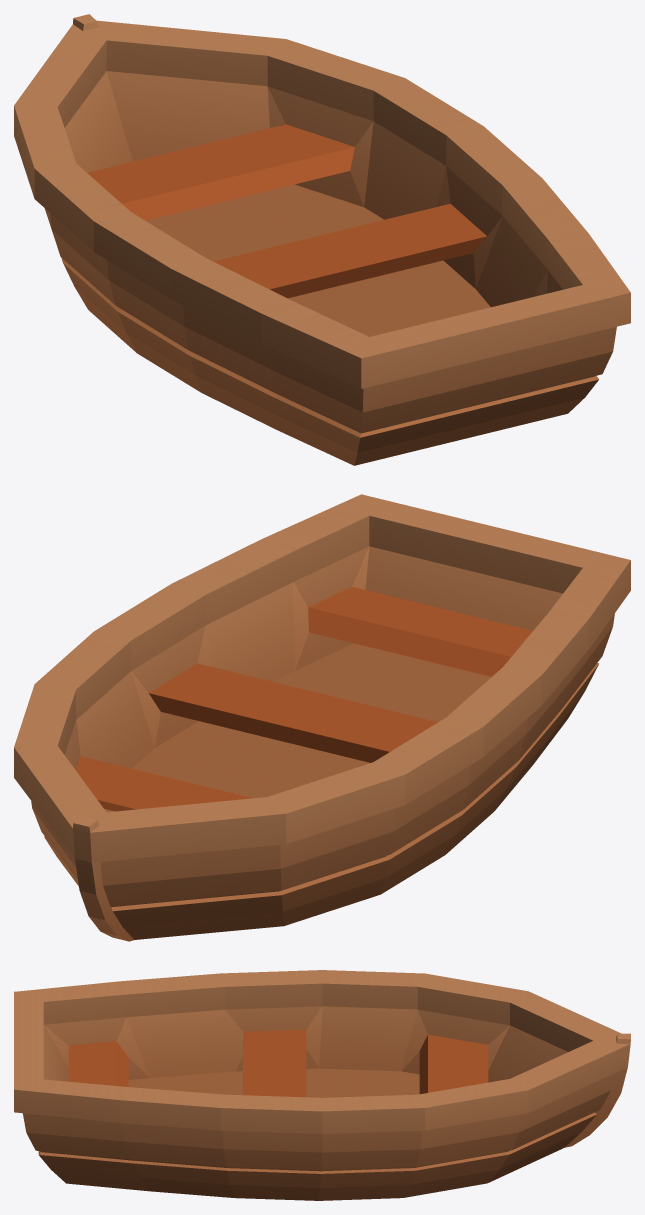
The model's file is boat.obj.
The picture shows the model from 3 angles, top to bottom: view 1: azimuth 30°, elevation 25°; view 2: azimuth 150°, elevation 25°; view 3: azimuth 270°, elevation 25°; orthographic projection. The views are drawn at different scales.
Parts seen in each view (by area): view 1: Cube.017; view 2: Cube.017; view 3: Cube.017.
Part boxes in pixels (x1,y1,x2,y2): Cube.017: [14, 14, 630, 465]; Cube.017: [14, 494, 630, 941]; Cube.017: [14, 970, 630, 1200].
Size of the model in its own units: 6.14 by 2.2 by 11.32.
